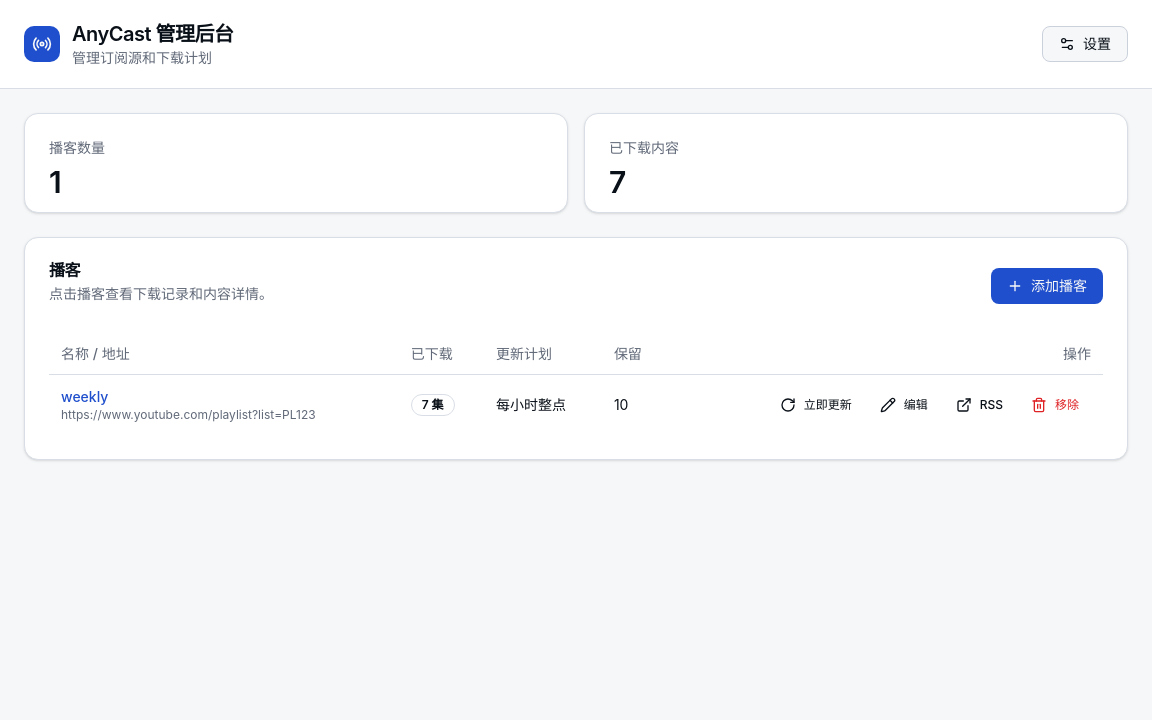
Test: AnyCast admin › reuses the add form when editing a podcast
Click the button with aria-label "编辑 weekly": (904, 404) [868,388,940,420]
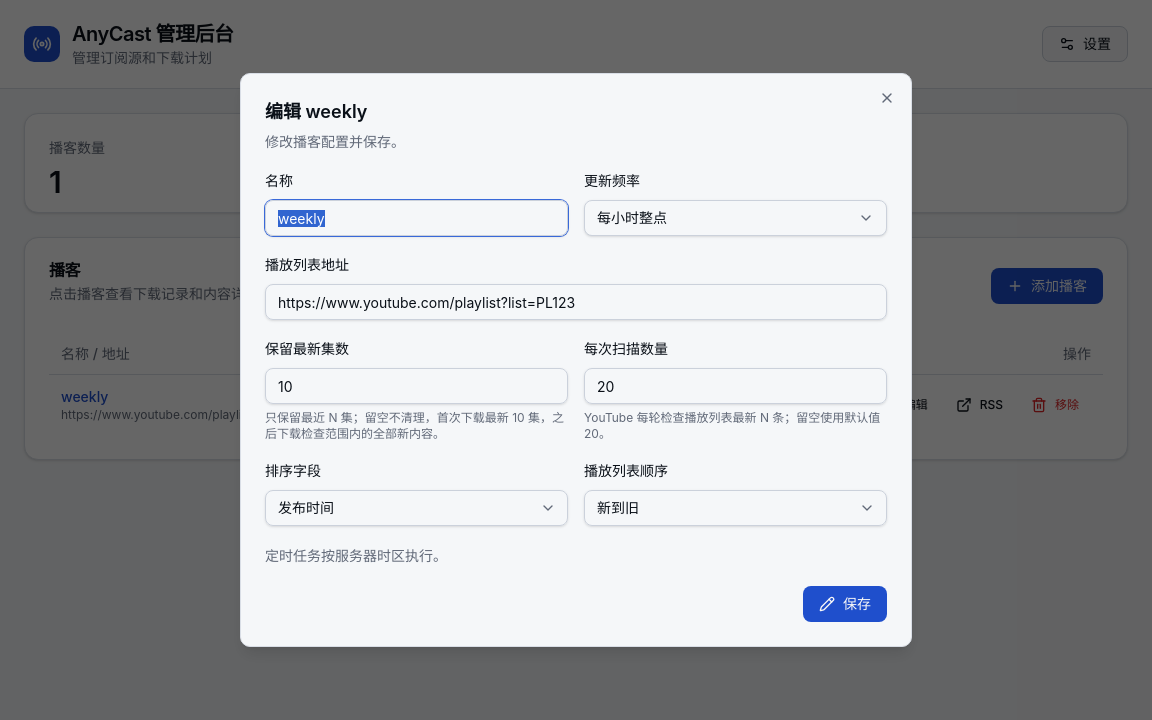
Expected: the field labelled "名称" holds "weekly", [265,200,568,236]
Expected: the button with aria-label "更新频率：每小时整点" is shown, [584,200,887,236]
Replace the text in the field labelled "播放列表地址" with "https://www.youtube.com/playlist?list=UPDATED": (576, 302) [265,284,887,320]
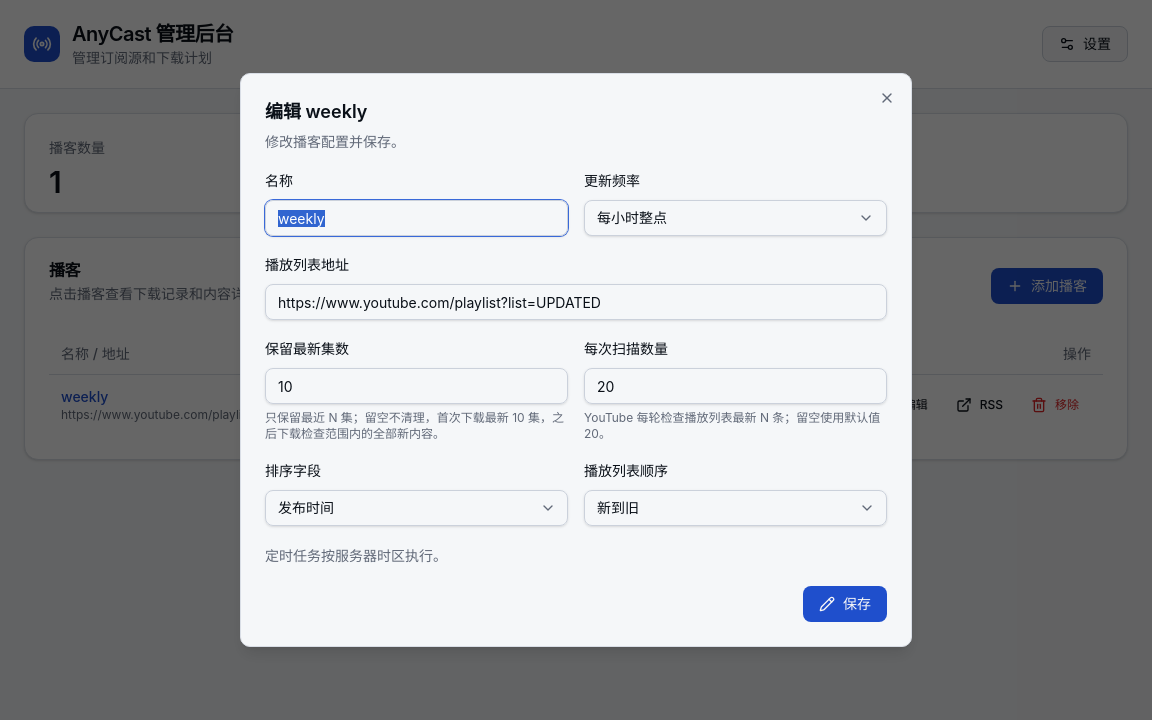
Submit the form named "保存", box [265,168,887,622]
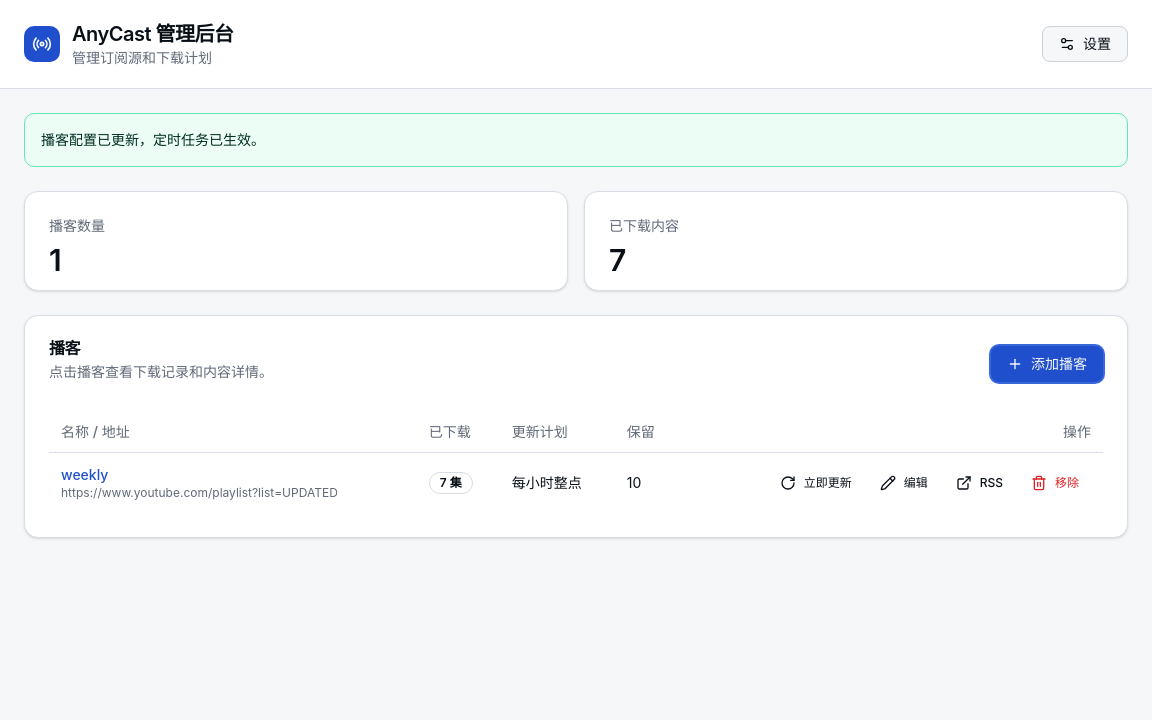
Expected: the heading "编辑 weekly" is gone
